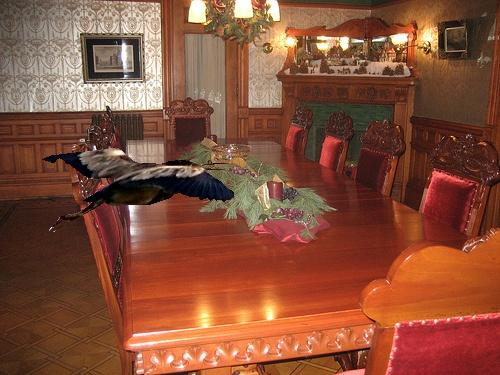tampered: (43, 149, 234, 232)
